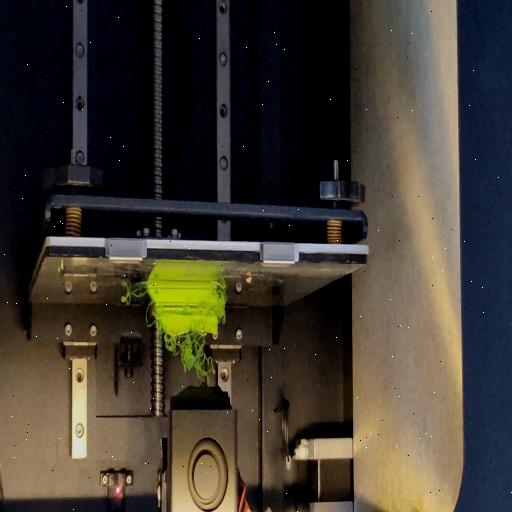spaghetti: (162, 332, 216, 382), (120, 288, 146, 304), (146, 303, 156, 329), (218, 284, 230, 293)
